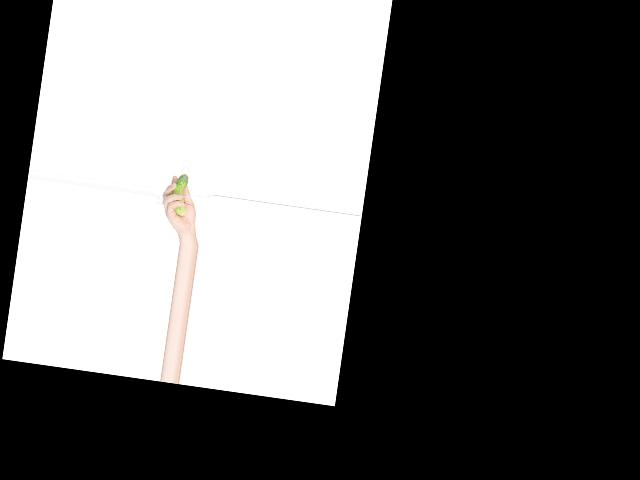cucumber: (169, 173, 190, 216)
